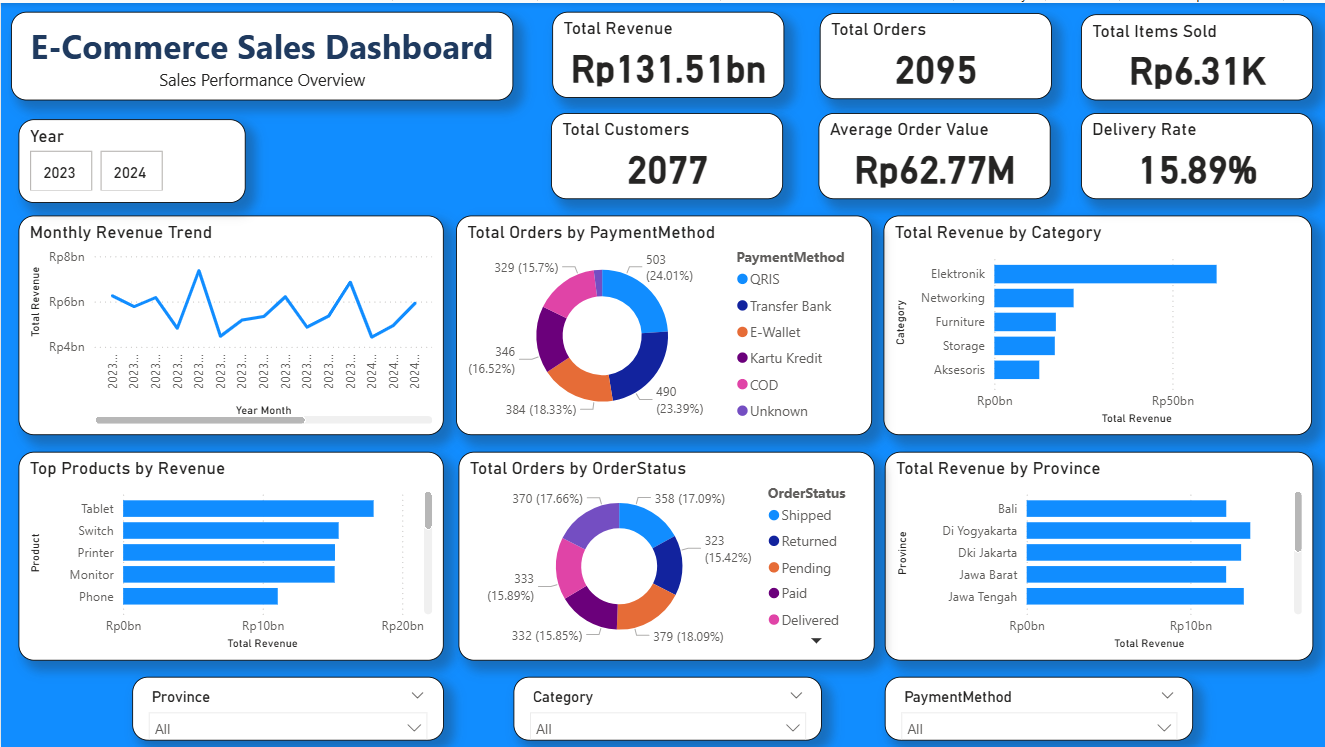

What the dashboard file says about the page in this screenshot:
{"tool":"powerbi","page":{"name":"ESD","canvas":[1280,720],"ordinal":0},"visuals":[{"type":"textbox","box":[9.7,8.4,485,85.7],"z":0},{"type":"card","title":"Total Revenue","fields":{"Values":["Sales.Total Revenue"]},"box":[531.8,8.7,224.4,83.2],"z":1000},{"type":"card","title":"Total Orders","fields":{"Values":["Sales.Total Orders"]},"box":[790,9.9,224.4,83.2],"z":2000},{"type":"card","title":"Total Items Sold","fields":{"Values":["Sales.Total Items Sold"]},"box":[1042.1,11.1,224.4,83.2],"z":3000},{"type":"card","title":"Total Customers","fields":{"Values":["Sales.Total Customers"]},"box":[531.3,105.9,224.4,83.2],"z":4000},{"type":"card","title":"Average Order Value","fields":{"Values":["Sales.Average Order Value"]},"box":[789.5,105.9,224.4,83.2],"z":5000},{"type":"lineChart","title":"Monthly Revenue Trend","fields":{"Y":["Sales.Total Revenue"],"Category":["Dim_Date.Year Month"]},"box":[16.9,205.1,410.2,212.3],"z":6000},{"type":"clusteredBarChart","fields":{"Category":["Sales.Category"],"Y":["Sales.Total Revenue"]},"box":[851.7,205.1,413.8,212.3],"z":7000},{"type":"clusteredBarChart","title":"Top Products by Revenue","fields":{"Category":["Sales.Product"],"Y":["Sales.Total Revenue"]},"box":[16.9,433.1,410.2,201.5],"z":8000},{"type":"clusteredBarChart","fields":{"Category":["Sales.Province"],"Y":["Sales.Total Revenue"]},"box":[853,433.1,413.8,201.5],"z":9000},{"type":"donutChart","fields":{"Category":["Sales.PaymentMethod"],"Y":["Sales.Total Orders"]},"box":[439.1,205.1,401.7,212.3],"z":10000},{"type":"donutChart","fields":{"Category":["Sales.OrderStatus"],"Y":["Sales.Total Orders"]},"box":[441.6,433.1,401.7,201.5],"z":11000},{"type":"card","title":"Delivery Rate","fields":{"Values":["Sales.Delivery Rate"]},"box":[1042.1,106.4,224.4,83.2],"z":12000},{"type":"advancedSlicerVisual","fields":{"Values":["Dim_Date.Year"]},"box":[16.9,112.2,219.6,80.8],"z":13000},{"type":"slicer","fields":{"Values":["Sales.Province"]},"box":[126.7,650.3,300.4,61.5],"z":14000},{"type":"slicer","fields":{"Values":["Sales.Category"]},"box":[494.6,650.3,298,61.5],"z":15000},{"type":"slicer","fields":{"Values":["Sales.PaymentMethod"]},"box":[853,650.3,298,61.5],"z":16000}]}

Visuals, with their boxes in screenshot pixels (x1, y1, x2, y2), scaled from the page's 1280x720 canvas onto the 1325x747 screenshot:
textbox: left=10, top=9, right=512, bottom=98
"Total Revenue" card: left=550, top=9, right=783, bottom=95
"Total Orders" card: left=818, top=10, right=1050, bottom=97
"Total Items Sold" card: left=1079, top=12, right=1311, bottom=98
"Total Customers" card: left=550, top=110, right=782, bottom=196
"Average Order Value" card: left=817, top=110, right=1050, bottom=196
"Monthly Revenue Trend" lineChart: left=17, top=213, right=442, bottom=433
clusteredBarChart - Sales.Category x Sales.Total Revenue: left=882, top=213, right=1310, bottom=433
"Top Products by Revenue" clusteredBarChart: left=17, top=449, right=442, bottom=658
clusteredBarChart - Sales.Province x Sales.Total Revenue: left=883, top=449, right=1311, bottom=658
donutChart - Sales.PaymentMethod x Sales.Total Orders: left=455, top=213, right=870, bottom=433
donutChart - Sales.OrderStatus x Sales.Total Orders: left=457, top=449, right=873, bottom=658
"Delivery Rate" card: left=1079, top=110, right=1311, bottom=197
advancedSlicerVisual - Dim_Date.Year: left=17, top=116, right=245, bottom=200
slicer - Sales.Province: left=131, top=675, right=442, bottom=738
slicer - Sales.Category: left=512, top=675, right=820, bottom=738
slicer - Sales.PaymentMethod: left=883, top=675, right=1191, bottom=738
